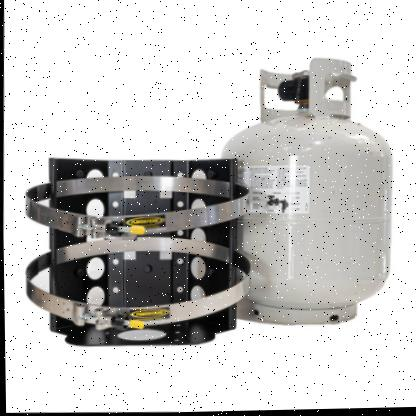gas-tank: (199, 50, 413, 352)
